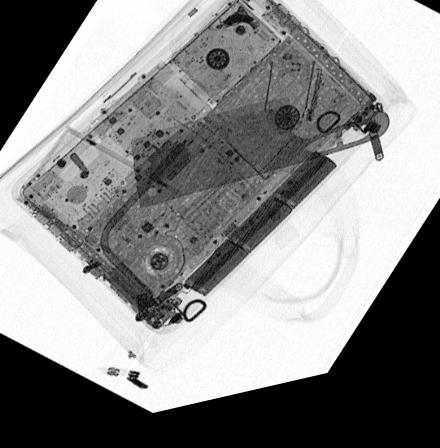Knife: (129, 110, 390, 216)
